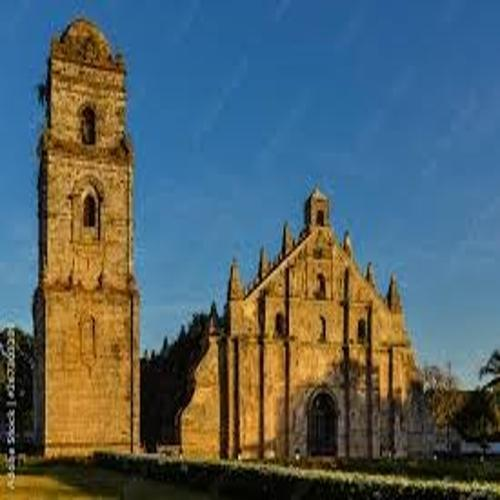Paoay Church: (25, 11, 460, 471)
